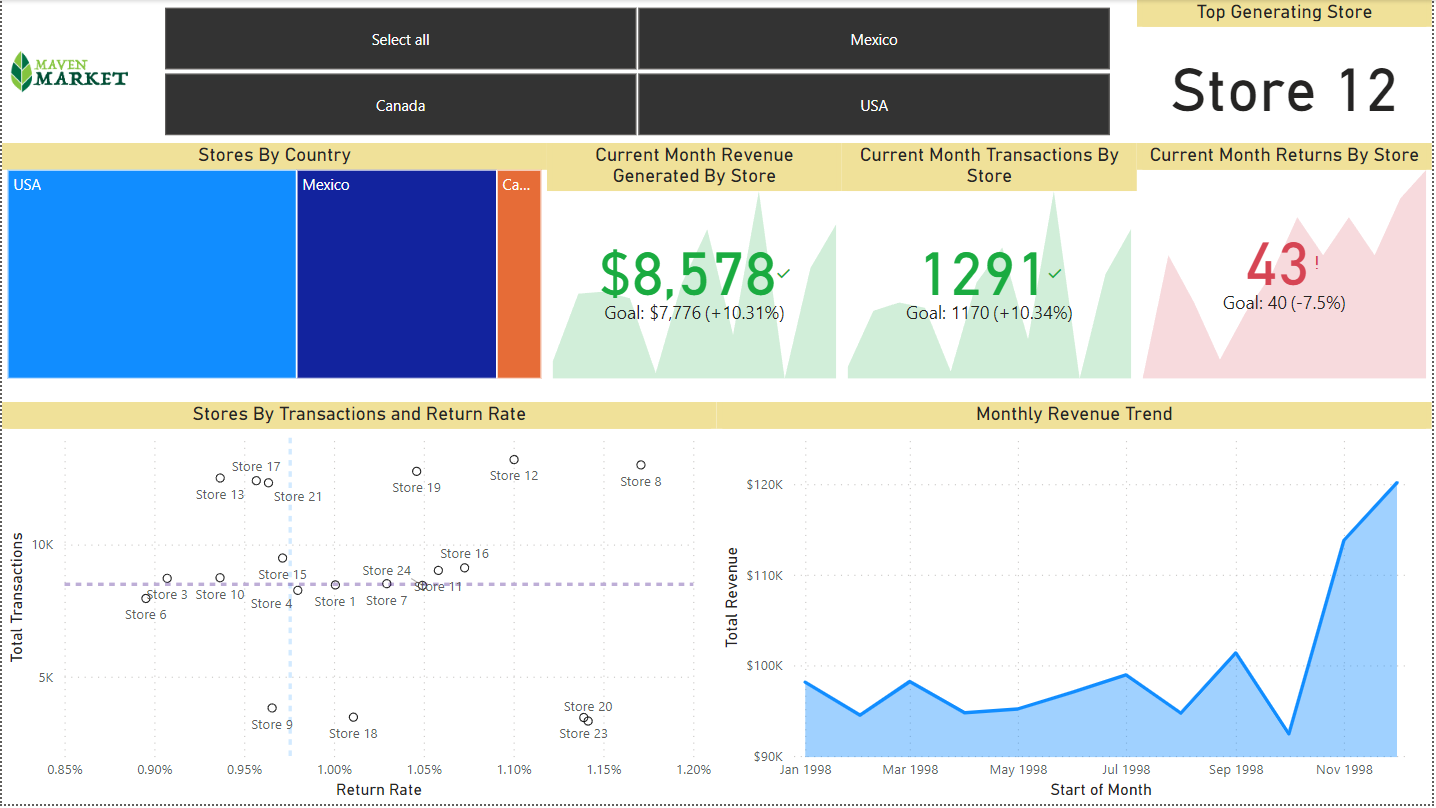

Layout of this report page (visuals, bound fields, positions):
{"tool":"powerbi","page":{"name":"Store Performance","canvas":[1280,720],"ordinal":2},"visuals":[{"type":"slicer","fields":{"Values":["Stores.store_country"]},"box":[120,0,896,128],"z":0},{"type":"areaChart","title":"Monthly Revenue Trend","fields":{"Category":["Calendar.Start of Month"],"Y":["Transaction_Data.Total Revenue"]},"box":[640,360,640,360],"z":1000},{"type":"scatterChart","title":"Stores By Transactions and Return Rate","fields":{"Category":["Stores.store_name"],"Y":["Transaction_Data.Total Transactions"],"X":["Returns.Return Rate"]},"box":[0,360,640,360],"z":2000},{"type":"image","box":[0,0,120,128],"z":3000},{"type":"treemap","title":"Stores By Country","fields":{"Group":["Stores.store_country"],"Values":["CountNonNull(Stores.store_name)"]},"box":[0,128,488,216],"z":4000},{"type":"card","title":"Top Generating Store","fields":{"Values":["Min(Stores.store_name)"]},"box":[1016,0,264,128],"z":4001},{"type":"kpi","title":"Current Month Revenue Generated By Store","fields":{"Indicator":["Transaction_Data.Total Revenue"],"TrendLine":["Calendar.Start of Month"],"Goal":["Transaction_Data.Last Month Revenue"]},"box":[488,128,264,216],"z":4002},{"type":"kpi","title":"Current Month Transactions By Store","fields":{"TrendLine":["Calendar.Start of Month"],"Indicator":["Transaction_Data.Total Transactions"],"Goal":["Transaction_Data.Last Month Transactions"]},"box":[752,128,264,216],"z":4003},{"type":"kpi","title":"Current Month Returns By Store","fields":{"TrendLine":["Calendar.Start of Month"],"Indicator":["Returns.Total Returns"],"Goal":["Returns.Last Month Returns"]},"box":[1016,128,264,216],"z":4004}]}

Visuals, with their boxes in screenshot pixels (x1, y1, x2, y2), scaled from the page's 1280x720 canvas onto the 1436x808 screenshot:
slicer - Stores.store_country: l=135, t=0, r=1140, b=144
"Monthly Revenue Trend" areaChart: l=718, t=404, r=1435, b=807
"Stores By Transactions and Return Rate" scatterChart: l=0, t=404, r=718, b=807
image: l=0, t=0, r=135, b=144
"Stores By Country" treemap: l=0, t=144, r=547, b=386
"Top Generating Store" card: l=1140, t=0, r=1435, b=144
"Current Month Revenue Generated By Store" kpi: l=547, t=144, r=844, b=386
"Current Month Transactions By Store" kpi: l=844, t=144, r=1140, b=386
"Current Month Returns By Store" kpi: l=1140, t=144, r=1435, b=386
